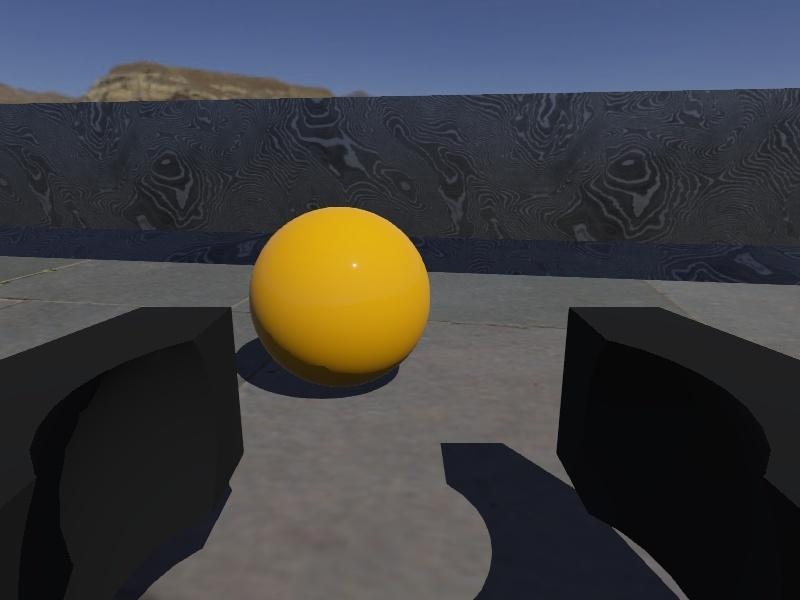orange ball: (248, 205, 432, 389)
